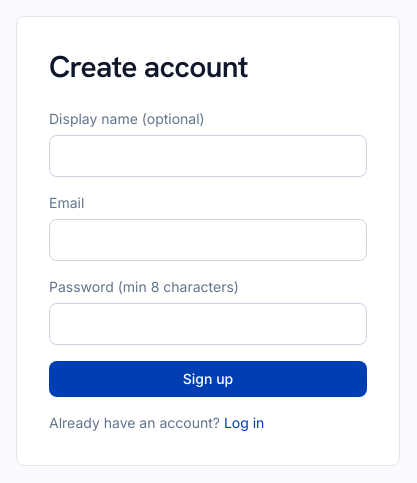
Test: RegisterPage › shows the check-your-email screen without starting a session
The width and height of the screenshot is (417, 483).
Type "new@example.com" into the field labelled "Email" at (208, 240), box [49, 218, 367, 260]
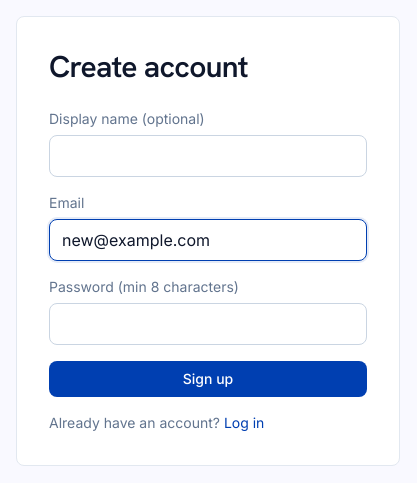
Type "password123" into the password field labelled "Password (min 8 characters)" at (208, 324), box [49, 302, 367, 344]
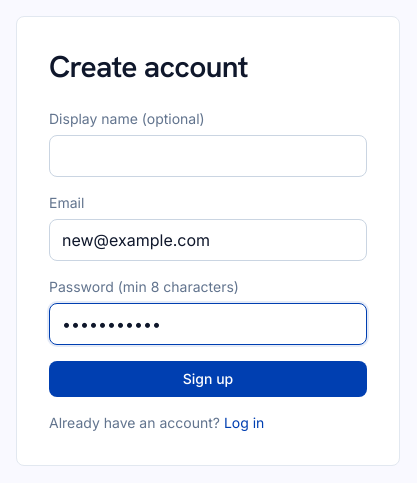
Click the button "Sign up" at (208, 378), box [49, 360, 367, 396]
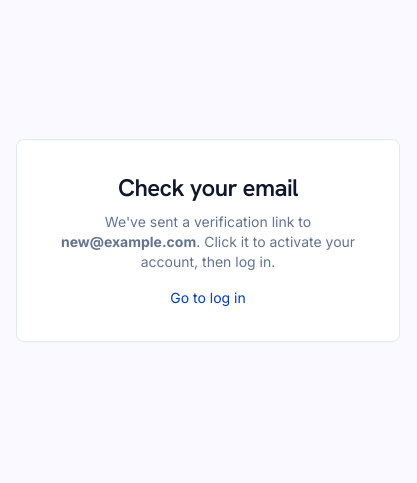
expect the heading "Check your email" is shown: met, box [118, 172, 298, 203]
expect the text "new@example.com" is shown: met, box [61, 233, 196, 250]
